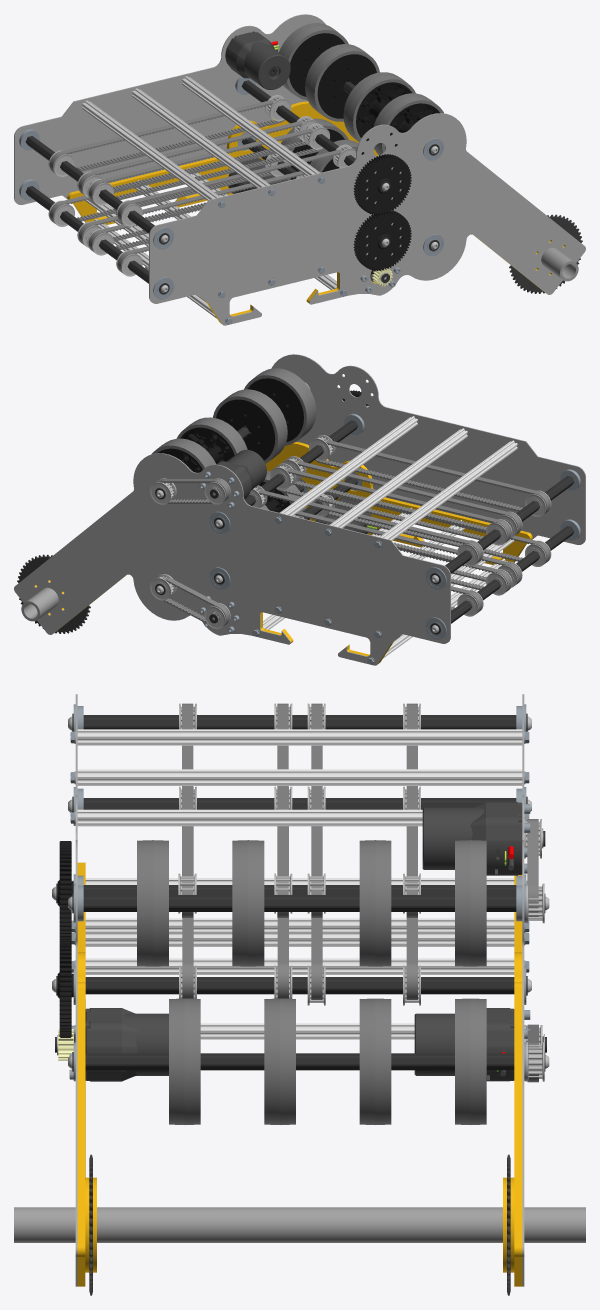
The picture shows the model from 3 angles, top to bottom: view 1: azimuth 30°, elevation 25°; view 2: azimuth 150°, elevation 25°; view 3: azimuth 270°, elevation 25°; orthographic projection. The views are drawn at different scales.
Parts seen in each view (by area): view 1: Part 1 (×3), 150T HTD Belt (×7), Surface 1 (×4), 1/2 Churro X 14" Long (×3), 64T 20DP Steel - 1/2" Hex Bore Gear (REV-21-1943) (×2), Surface 2 (×4), Shaft (×4), Neo Vortex/Spark Flex (REV-25-2844), Tube, 54t Plate 25 Chain Sprocket (217-2633), 1/2 Churro X 13.5" Long; view 2: Part 1 (×3), 150T HTD Belt (×7), 1/2 Churro X 14" Long (×3), Surface 1 (×4), Surface 2 (×4), Shaft (×4), Neo Vortex/Spark Flex (REV-25-2844) (×2), 50T HTD Belt (×2), 18t 9mm Wide 1/2" Hex Bore Double Flange 5mm HTD Aluminum Pu (×2), Tube, 54t Plate 25 Chain Sprocket (217-2633), 1/2 Churro X 13.5" Long; view 3: Surface 2 (×8), Shaft (×6), 1/2 Churro X 14" Long (×3), Tube, 1/2 Churro X 13.5" Long (×5), Neo Vortex/Spark Flex (REV-25-2844) (×3), 150T HTD Belt (×8), Part 1 (×4), 64T 20DP Steel - 1/2" Hex Bore Gear (REV-21-1943) (×2), 50T HTD Belt.
Boxes of the visible parts, left/top/right/bottom form: Part 1 (×3): left=14, top=14, right=585, bottom=325; 150T HTD Belt (×7): left=49, top=99, right=345, bottom=252; Surface 1 (×4): left=289, top=33, right=440, bottom=147; 1/2 Churro X 14" Long (×3): left=82, top=76, right=320, bottom=200; 64T 20DP Steel - 1/2" Hex Bore Gear (REV-21-1943) (×2): left=353, top=154, right=411, bottom=270; Surface 2 (×4): left=279, top=23, right=443, bottom=155; Shaft (×4): left=25, top=80, right=390, bottom=294; Neo Vortex/Spark Flex (REV-25-2844): left=225, top=31, right=290, bottom=89; Tube: left=541, top=247, right=578, bottom=281; 54t Plate 25 Chain Sprocket (217-2633): left=509, top=214, right=582, bottom=293; 1/2 Churro X 13.5" Long: left=92, top=218, right=216, bottom=318; Part 1 (×3): left=14, top=354, right=585, bottom=665; 150T HTD Belt (×7): left=254, top=439, right=550, bottom=592; 1/2 Churro X 14" Long (×3): left=279, top=416, right=517, bottom=540; Surface 1 (×4): left=157, top=378, right=303, bottom=472; Surface 2 (×4): left=151, top=368, right=316, bottom=469; Shaft (×4): left=214, top=420, right=574, bottom=634; Neo Vortex/Spark Flex (REV-25-2844) (×2): left=216, top=449, right=379, bottom=533; 50T HTD Belt (×2): left=159, top=479, right=229, bottom=626; 18t 9mm Wide 1/2" Hex Bore Double Flange 5mm HTD Aluminum Pu (×2): left=150, top=478, right=176, bottom=600; Tube: left=21, top=587, right=58, bottom=621; 54t Plate 25 Chain Sprocket (217-2633): left=17, top=554, right=90, bottom=633; 1/2 Churro X 13.5" Long: left=383, top=558, right=507, bottom=658; Surface 2 (×8): left=137, top=840, right=486, bottom=1124; Shaft (×6): left=52, top=713, right=549, bottom=1071; 1/2 Churro X 14" Long (×3): left=77, top=729, right=522, bottom=826; Tube: left=14, top=1207, right=585, bottom=1242; 1/2 Churro X 13.5" Long (×5): left=85, top=878, right=514, bottom=1039; Neo Vortex/Spark Flex (REV-25-2844) (×3): left=85, top=802, right=522, bottom=1081; 150T HTD Belt (×8): left=182, top=703, right=417, bottom=999; Part 1 (×4): left=75, top=694, right=524, bottom=1286; 64T 20DP Steel - 1/2" Hex Bore Gear (REV-21-1943) (×2): left=57, top=841, right=73, bottom=1037; 50T HTD Belt: left=527, top=819, right=538, bottom=916.
Bounding box in the file's own units: 0.669 × 0.31 × 0.4572.
